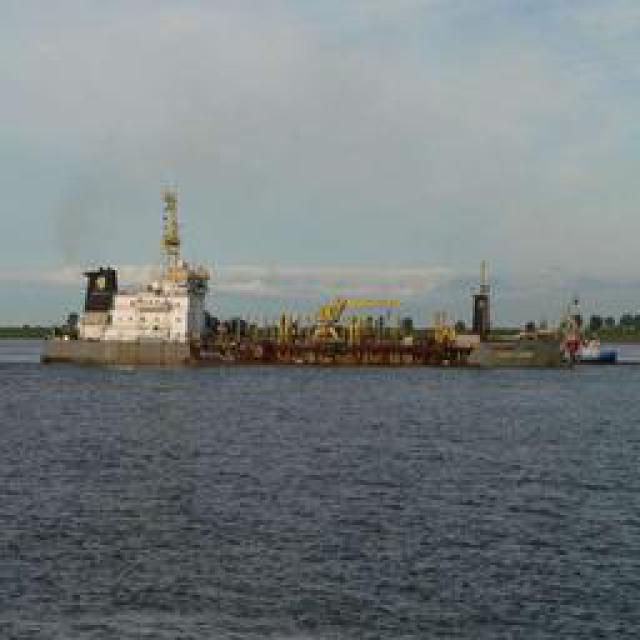Ship: (31, 180, 484, 375)
